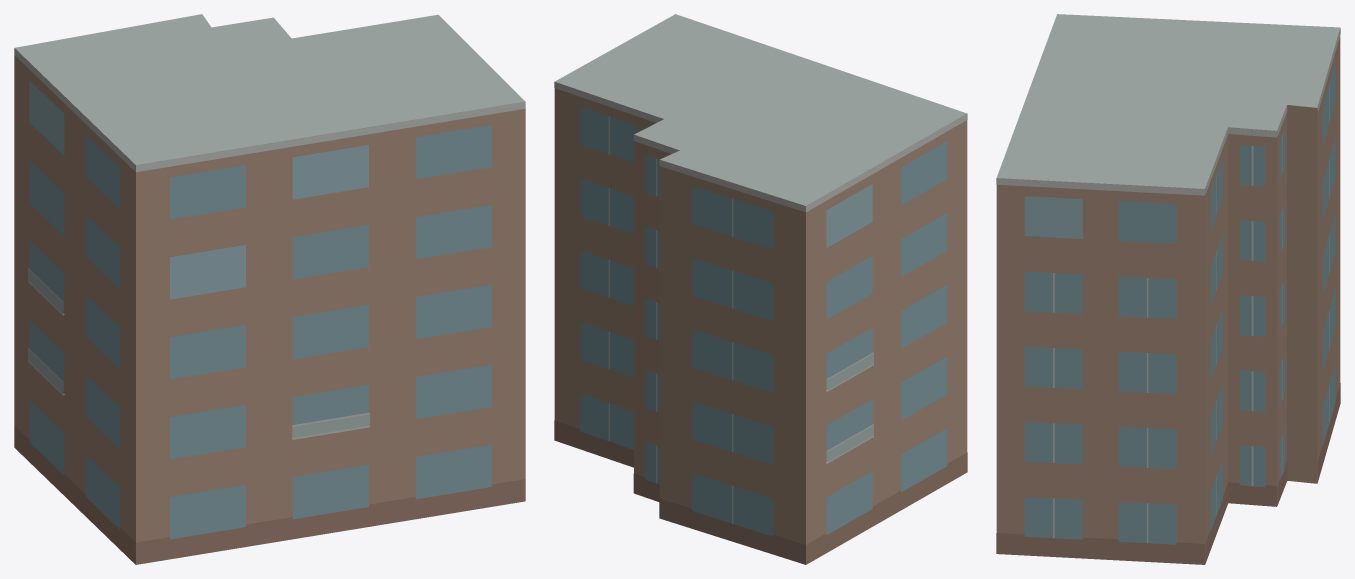
Rendered from survey-upis-32643131.glb.
The picture shows the model from 3 angles, left to right: view 1: azimuth 30°, elevation 25°; view 2: azimuth 150°, elevation 25°; view 3: azimuth 270°, elevation 25°; orthographic projection. The views are drawn at different scales.
Parts seen in each view (by area): view 1: survey-upis-32643131.tmp; view 2: survey-upis-32643131.tmp; view 3: survey-upis-32643131.tmp.
Boxes of the visible parts, x1,y1,x2,y2 form: survey-upis-32643131.tmp: (14, 14, 525, 564); survey-upis-32643131.tmp: (554, 14, 967, 564); survey-upis-32643131.tmp: (996, 14, 1340, 564).
Bounding box in the file's own units: 13.69 × 13.7 × 11.37.
